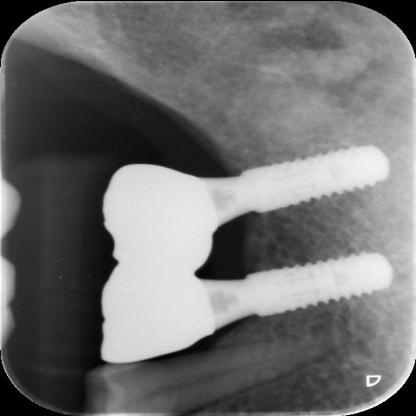ITI: (244, 242, 398, 320), (243, 140, 392, 220)
